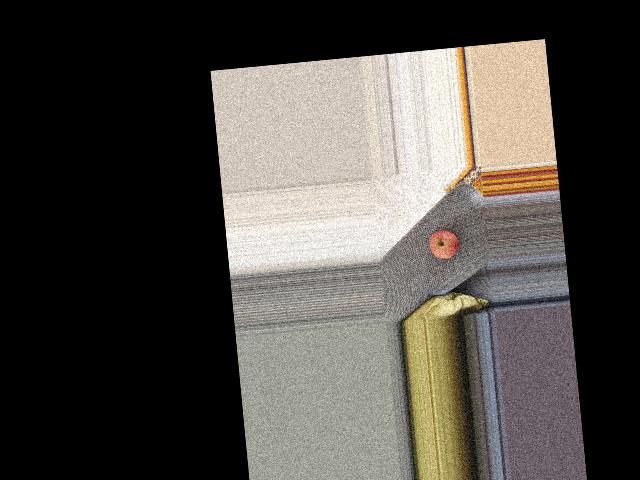apple: (429, 227, 464, 263)
